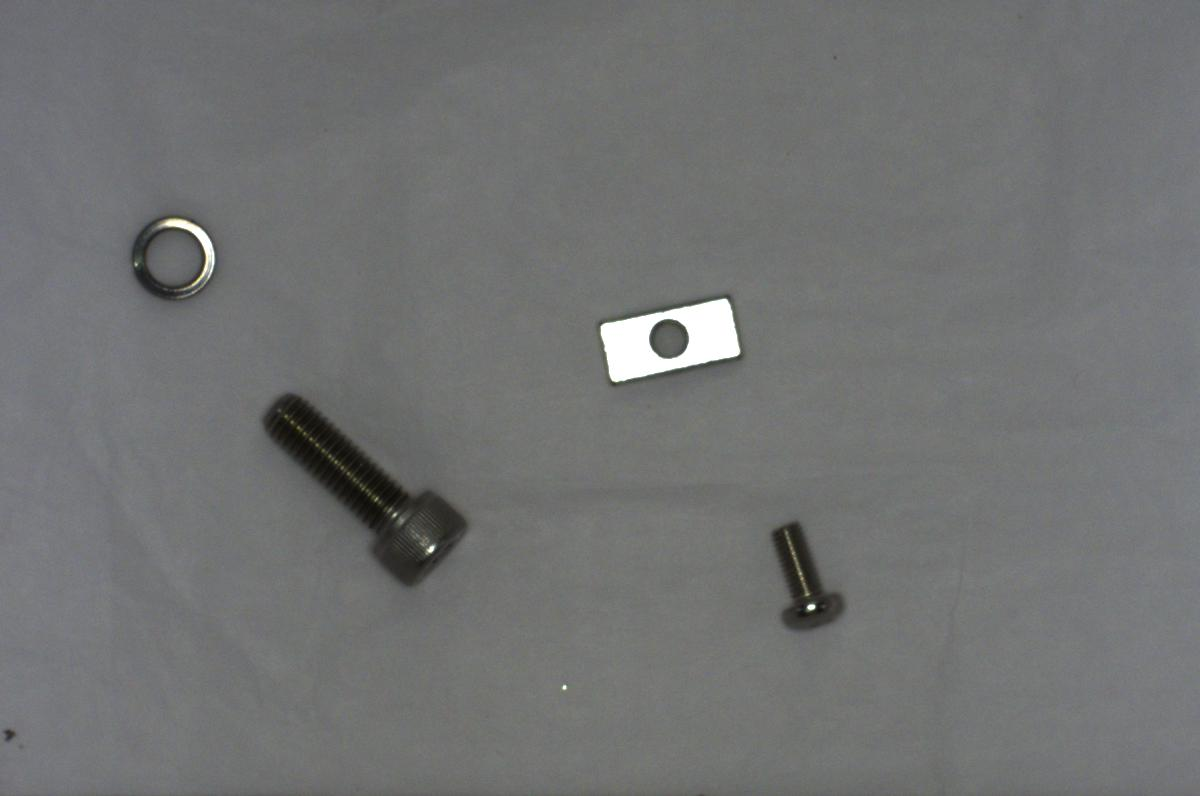Hexagon screw: (259, 386, 472, 587)
Rectangular nut: (590, 287, 752, 394)
Round head screw: (761, 513, 854, 636)
Spring washer: (126, 209, 211, 309)
